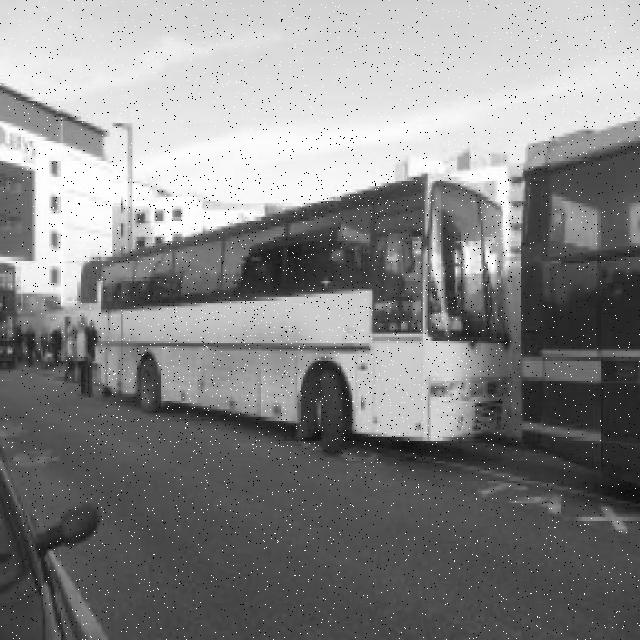Bus: (93, 175, 512, 455)
